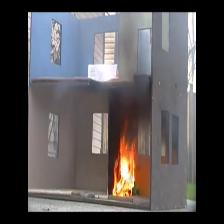fire: (112, 139, 149, 198)
smoke: (114, 86, 151, 135)
